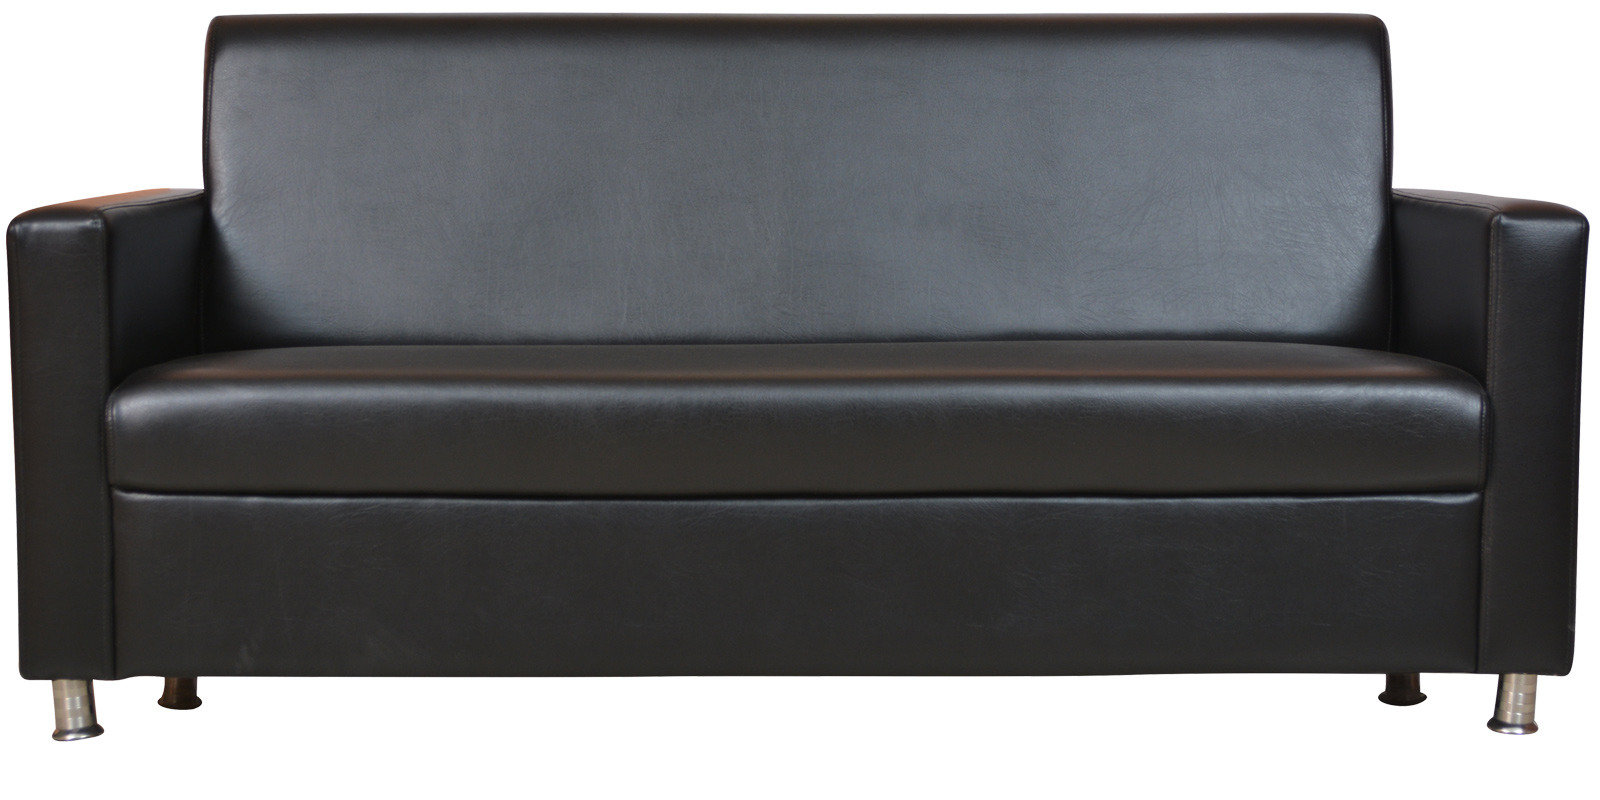Felix Three Seater Sofa in Black Leatherette by Crystal Furnitech: (7, 6, 1584, 764)
